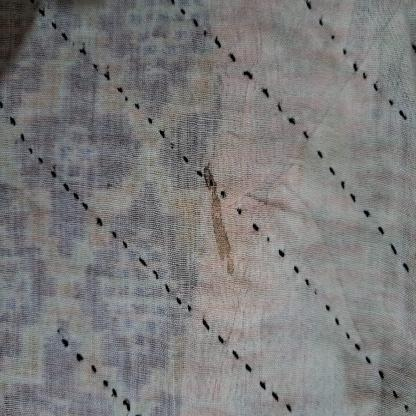spot: (198, 154, 238, 296)
